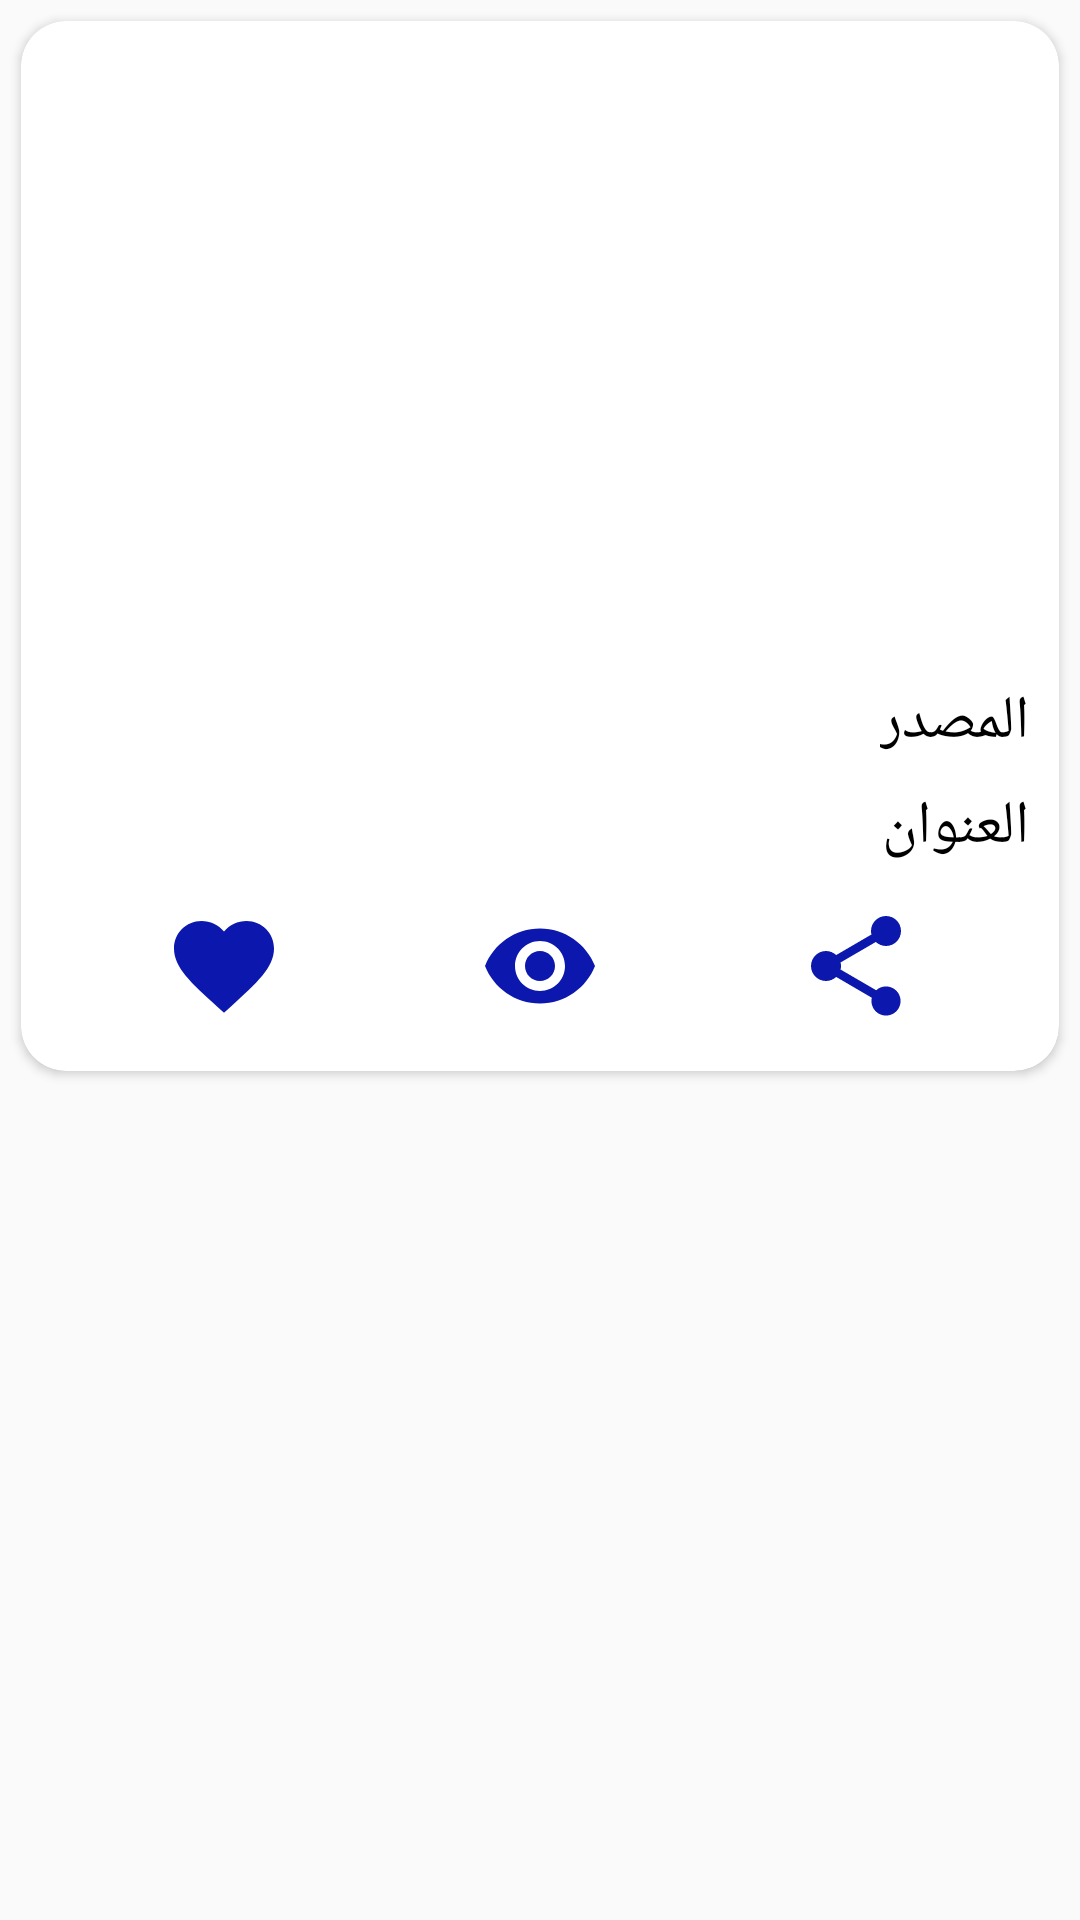

Named icons in this screenshot (1080 x 1920) and their centers, (x,y):
favorite: (224,967)
share: (856,966)
visibility: (540,966)
